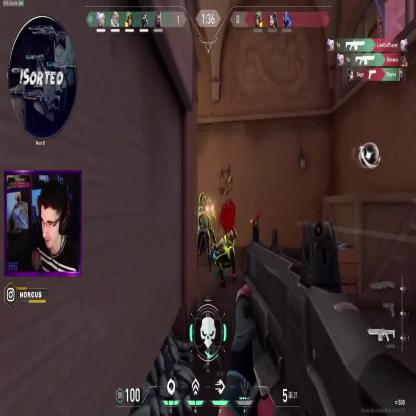enemy: (197, 194, 211, 272), (204, 196, 217, 258)
enemy_head: (200, 195, 207, 208), (206, 196, 212, 209)
